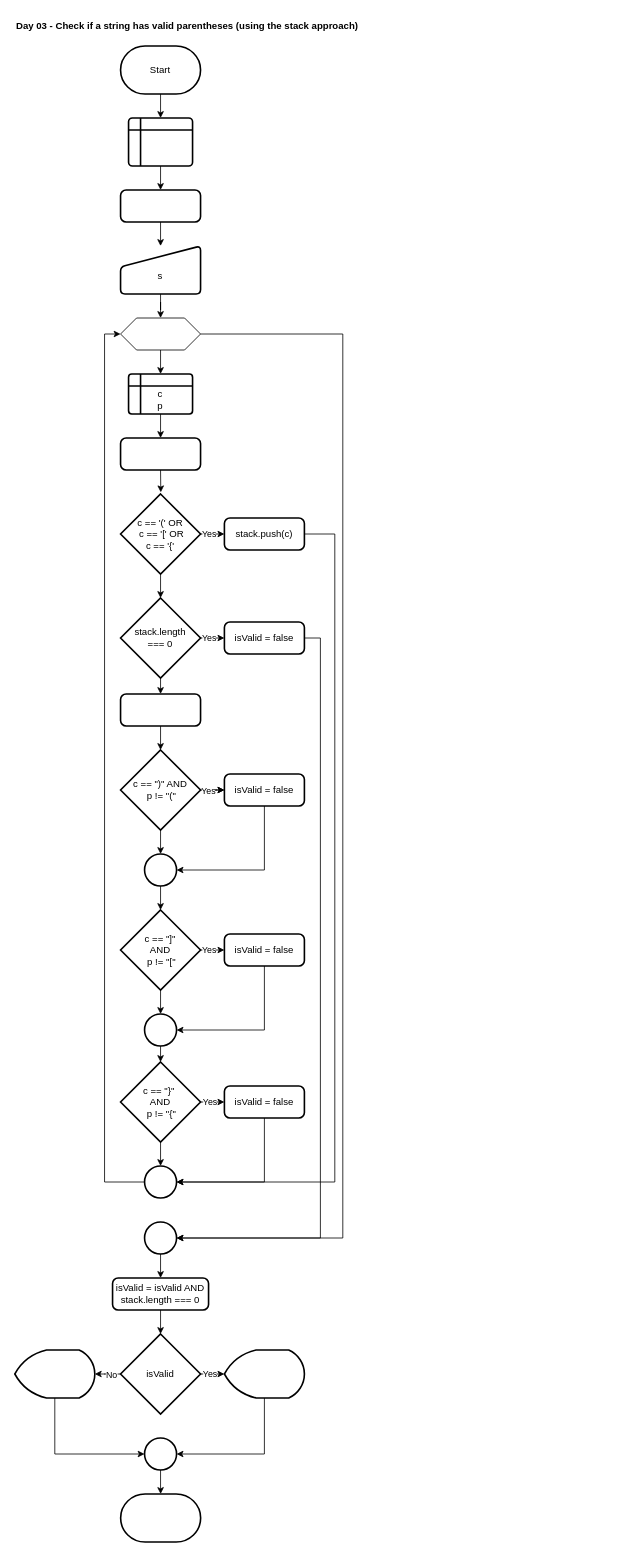
Image size: 636x1556. Some labels were removed from this diagram. The shapes that lost their labels are listed below. From the top down, each one's centre as x and y in pixels, then its label:
point 160,141: s stack isValid
point 160,205: isValid = true
point 160,333: i 0; s.length; 1
point 160,453: c = s.charAt(i) p = ""
point 160,709: p = stack.pop()
point 54,1373: "Invalid given string message"
point 264,1373: "Valid given string message"
point 160,1517: Stop
